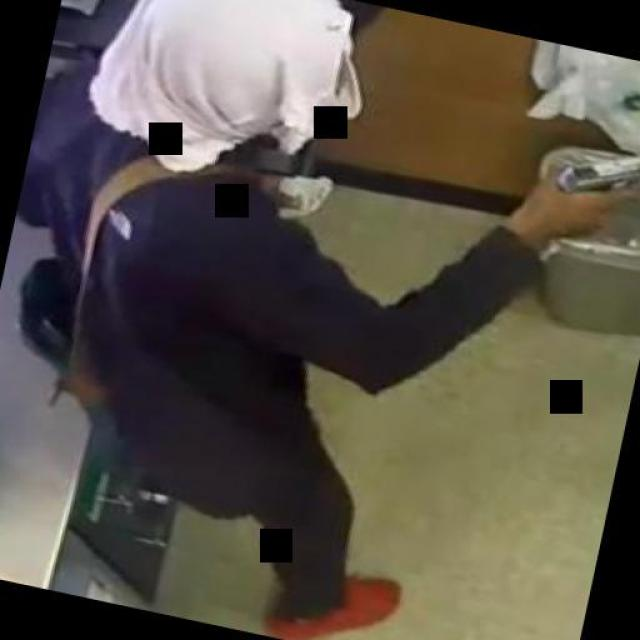gun: (541, 121, 640, 242)
